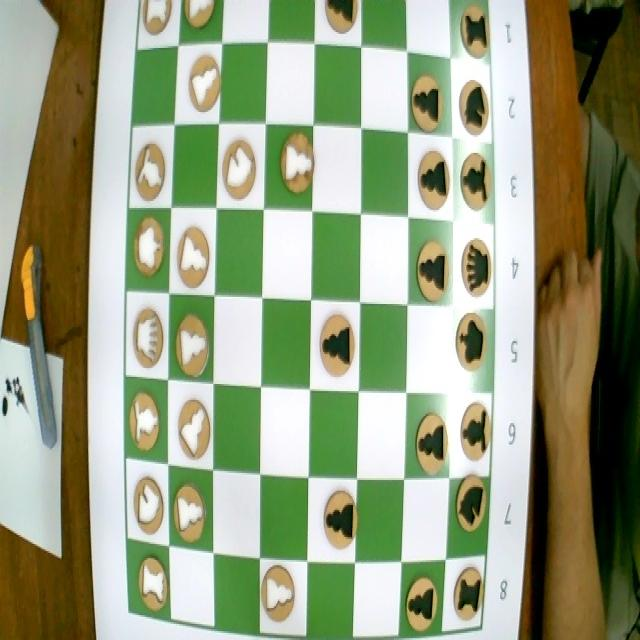chess-pieces: (311, 302, 359, 390), (170, 463, 210, 550), (317, 481, 361, 557), (411, 393, 451, 475), (260, 556, 302, 631), (276, 124, 316, 202), (171, 307, 212, 383), (126, 464, 167, 538), (174, 392, 214, 466), (456, 153, 496, 225), (412, 231, 452, 303), (124, 383, 164, 453), (218, 135, 260, 200), (173, 223, 213, 290), (406, 69, 447, 134), (402, 560, 438, 634), (456, 74, 496, 140), (458, 228, 494, 300), (452, 314, 490, 381), (186, 46, 220, 120), (131, 136, 169, 202), (458, 399, 493, 470), (454, 468, 490, 536), (450, 558, 486, 626), (455, 2, 494, 64), (130, 212, 166, 278), (133, 549, 168, 616), (129, 301, 164, 368), (139, 0, 176, 50), (182, 0, 223, 35), (322, 0, 358, 39)
